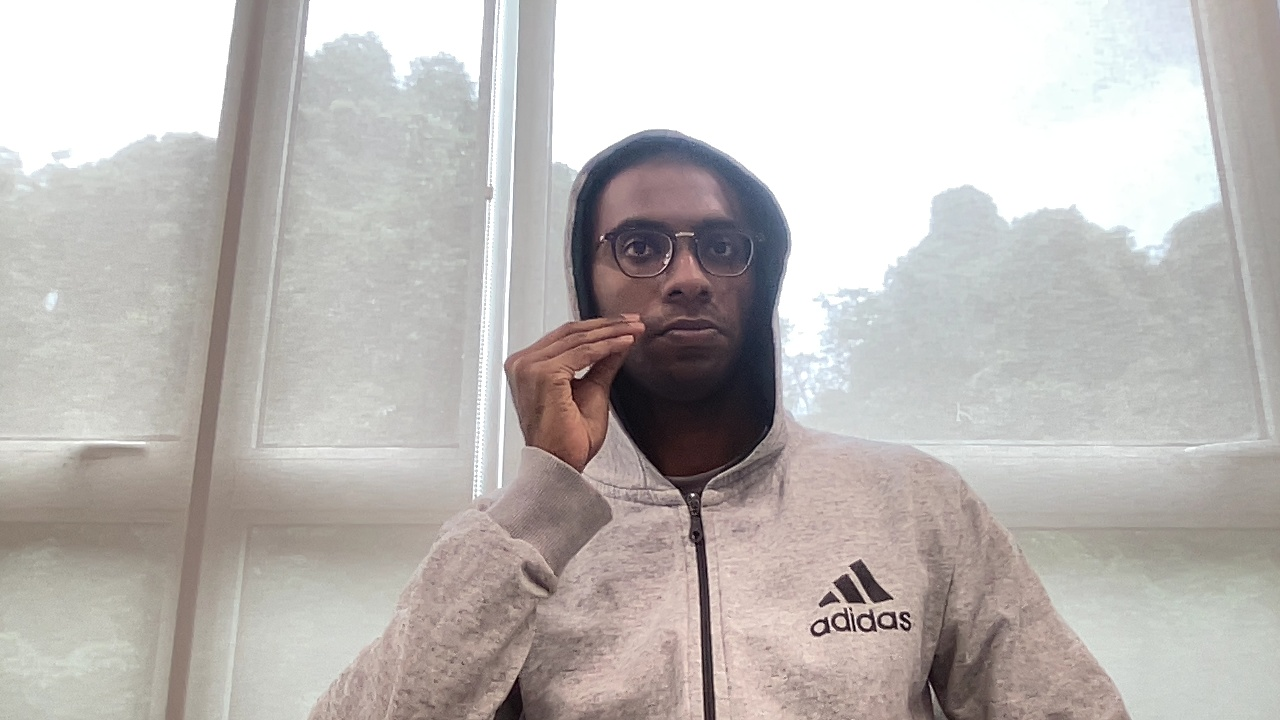eat: (492, 308, 660, 442)
